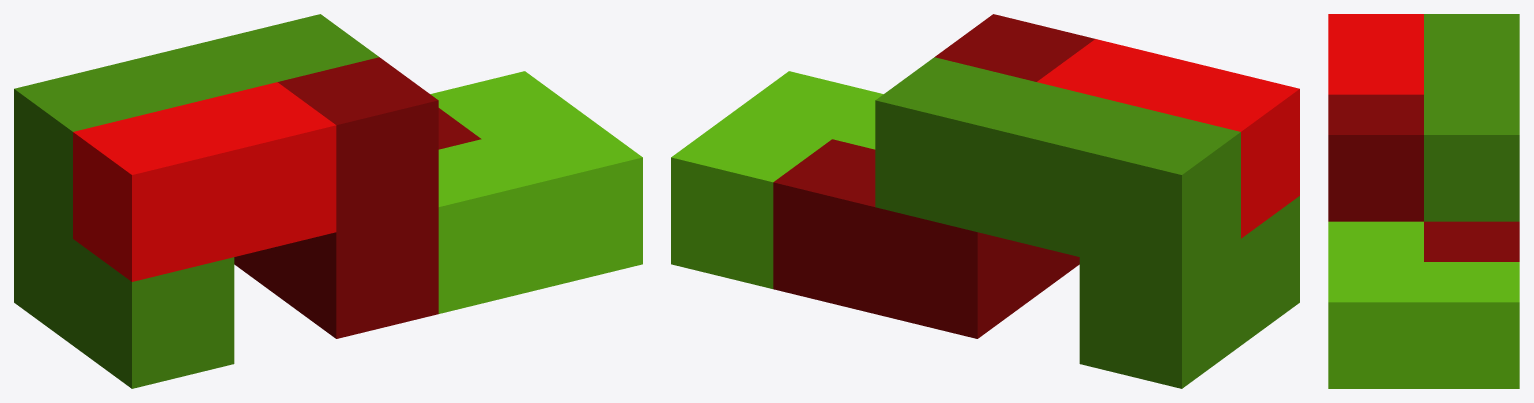
3 renders of one model, left to right at view 1: azimuth 30°, elevation 25°; view 2: azimuth 150°, elevation 25°; view 3: azimuth 270°, elevation 25°, orthographic. The views are drawn at different scales.
Parts seen in each view (by area): view 1: mergedBlocks(Clone); view 2: mergedBlocks(Clone); view 3: mergedBlocks(Clone).
Part boxes in pixels (x1,y1,x2,y2): mergedBlocks(Clone): [14, 14, 642, 388]; mergedBlocks(Clone): [671, 14, 1299, 388]; mergedBlocks(Clone): [1328, 14, 1519, 388].
Bounding box in the file's own units: 5 × 2 × 2.
4 materials, 4 textured.
